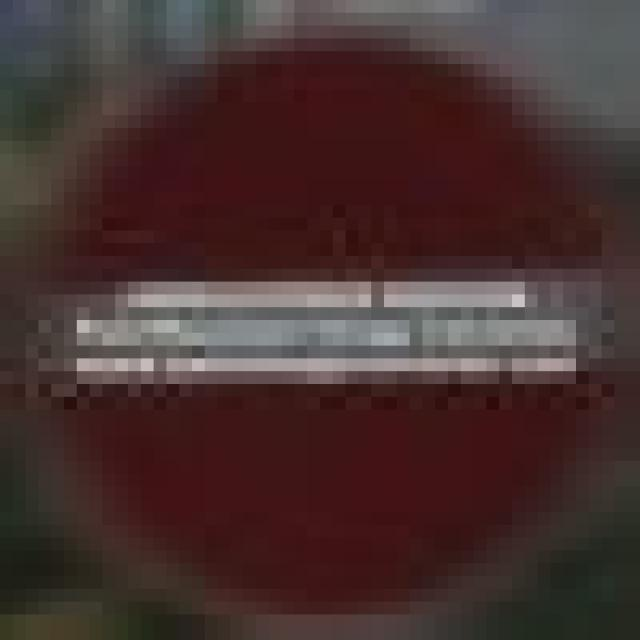NO_ENTRY: (26, 26, 602, 627)
